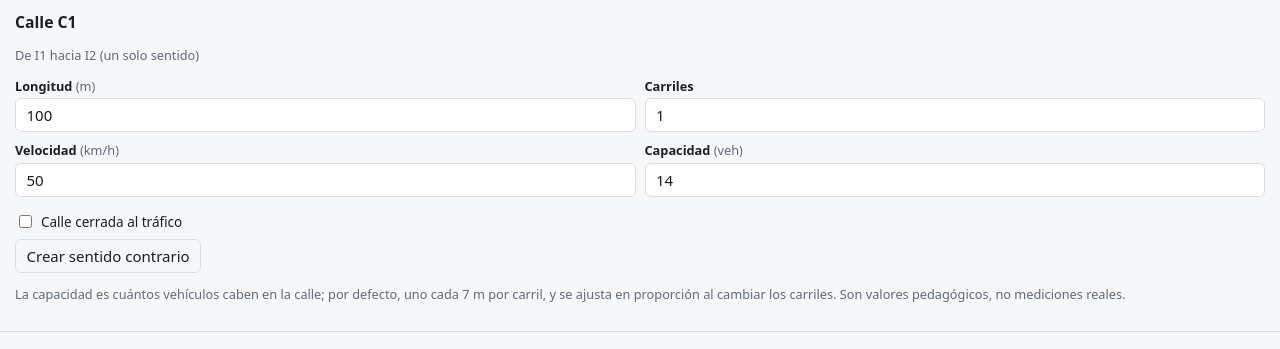
Scenario: PropertiesPanel › un valor inválido no se guarda y el campo vuelve al valor anterior
Replace the text in the number field labelled "Carriles" with "0" at (955, 115), box [644,98,1265,132]
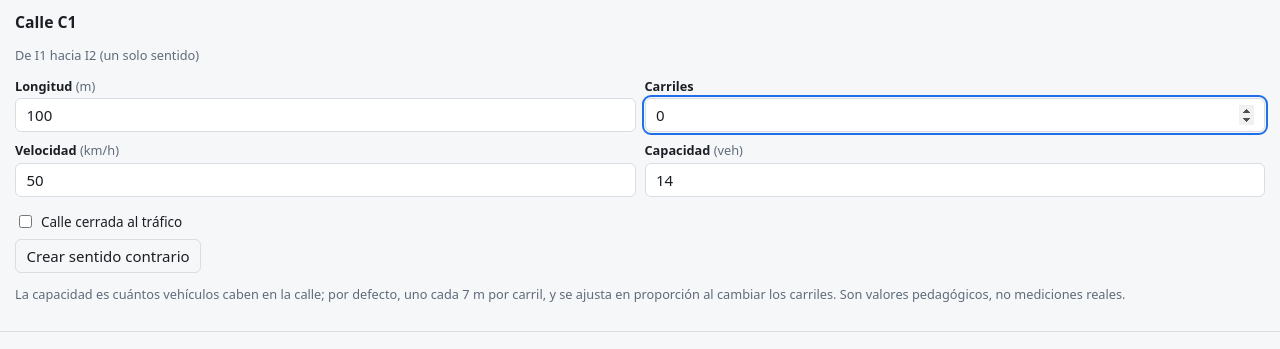
Press Tab
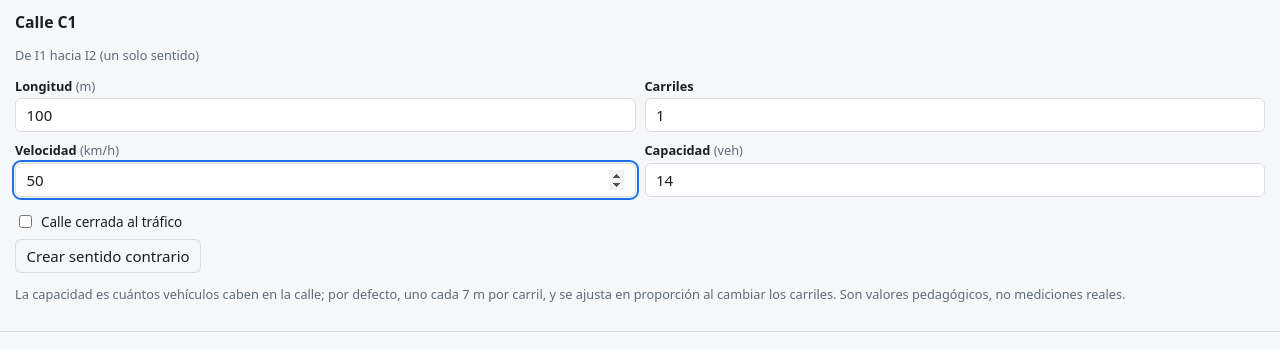
Check: the number field labelled "Carriles" holds "1", box [644,98,1265,132]
